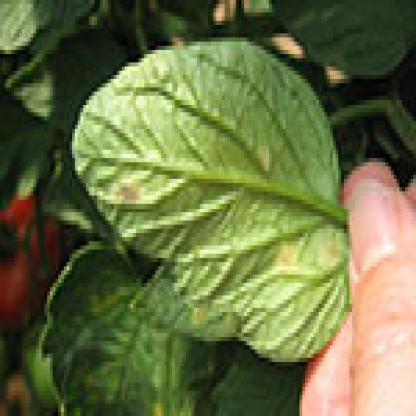Tomato mold leaf: (61, 38, 355, 378)
